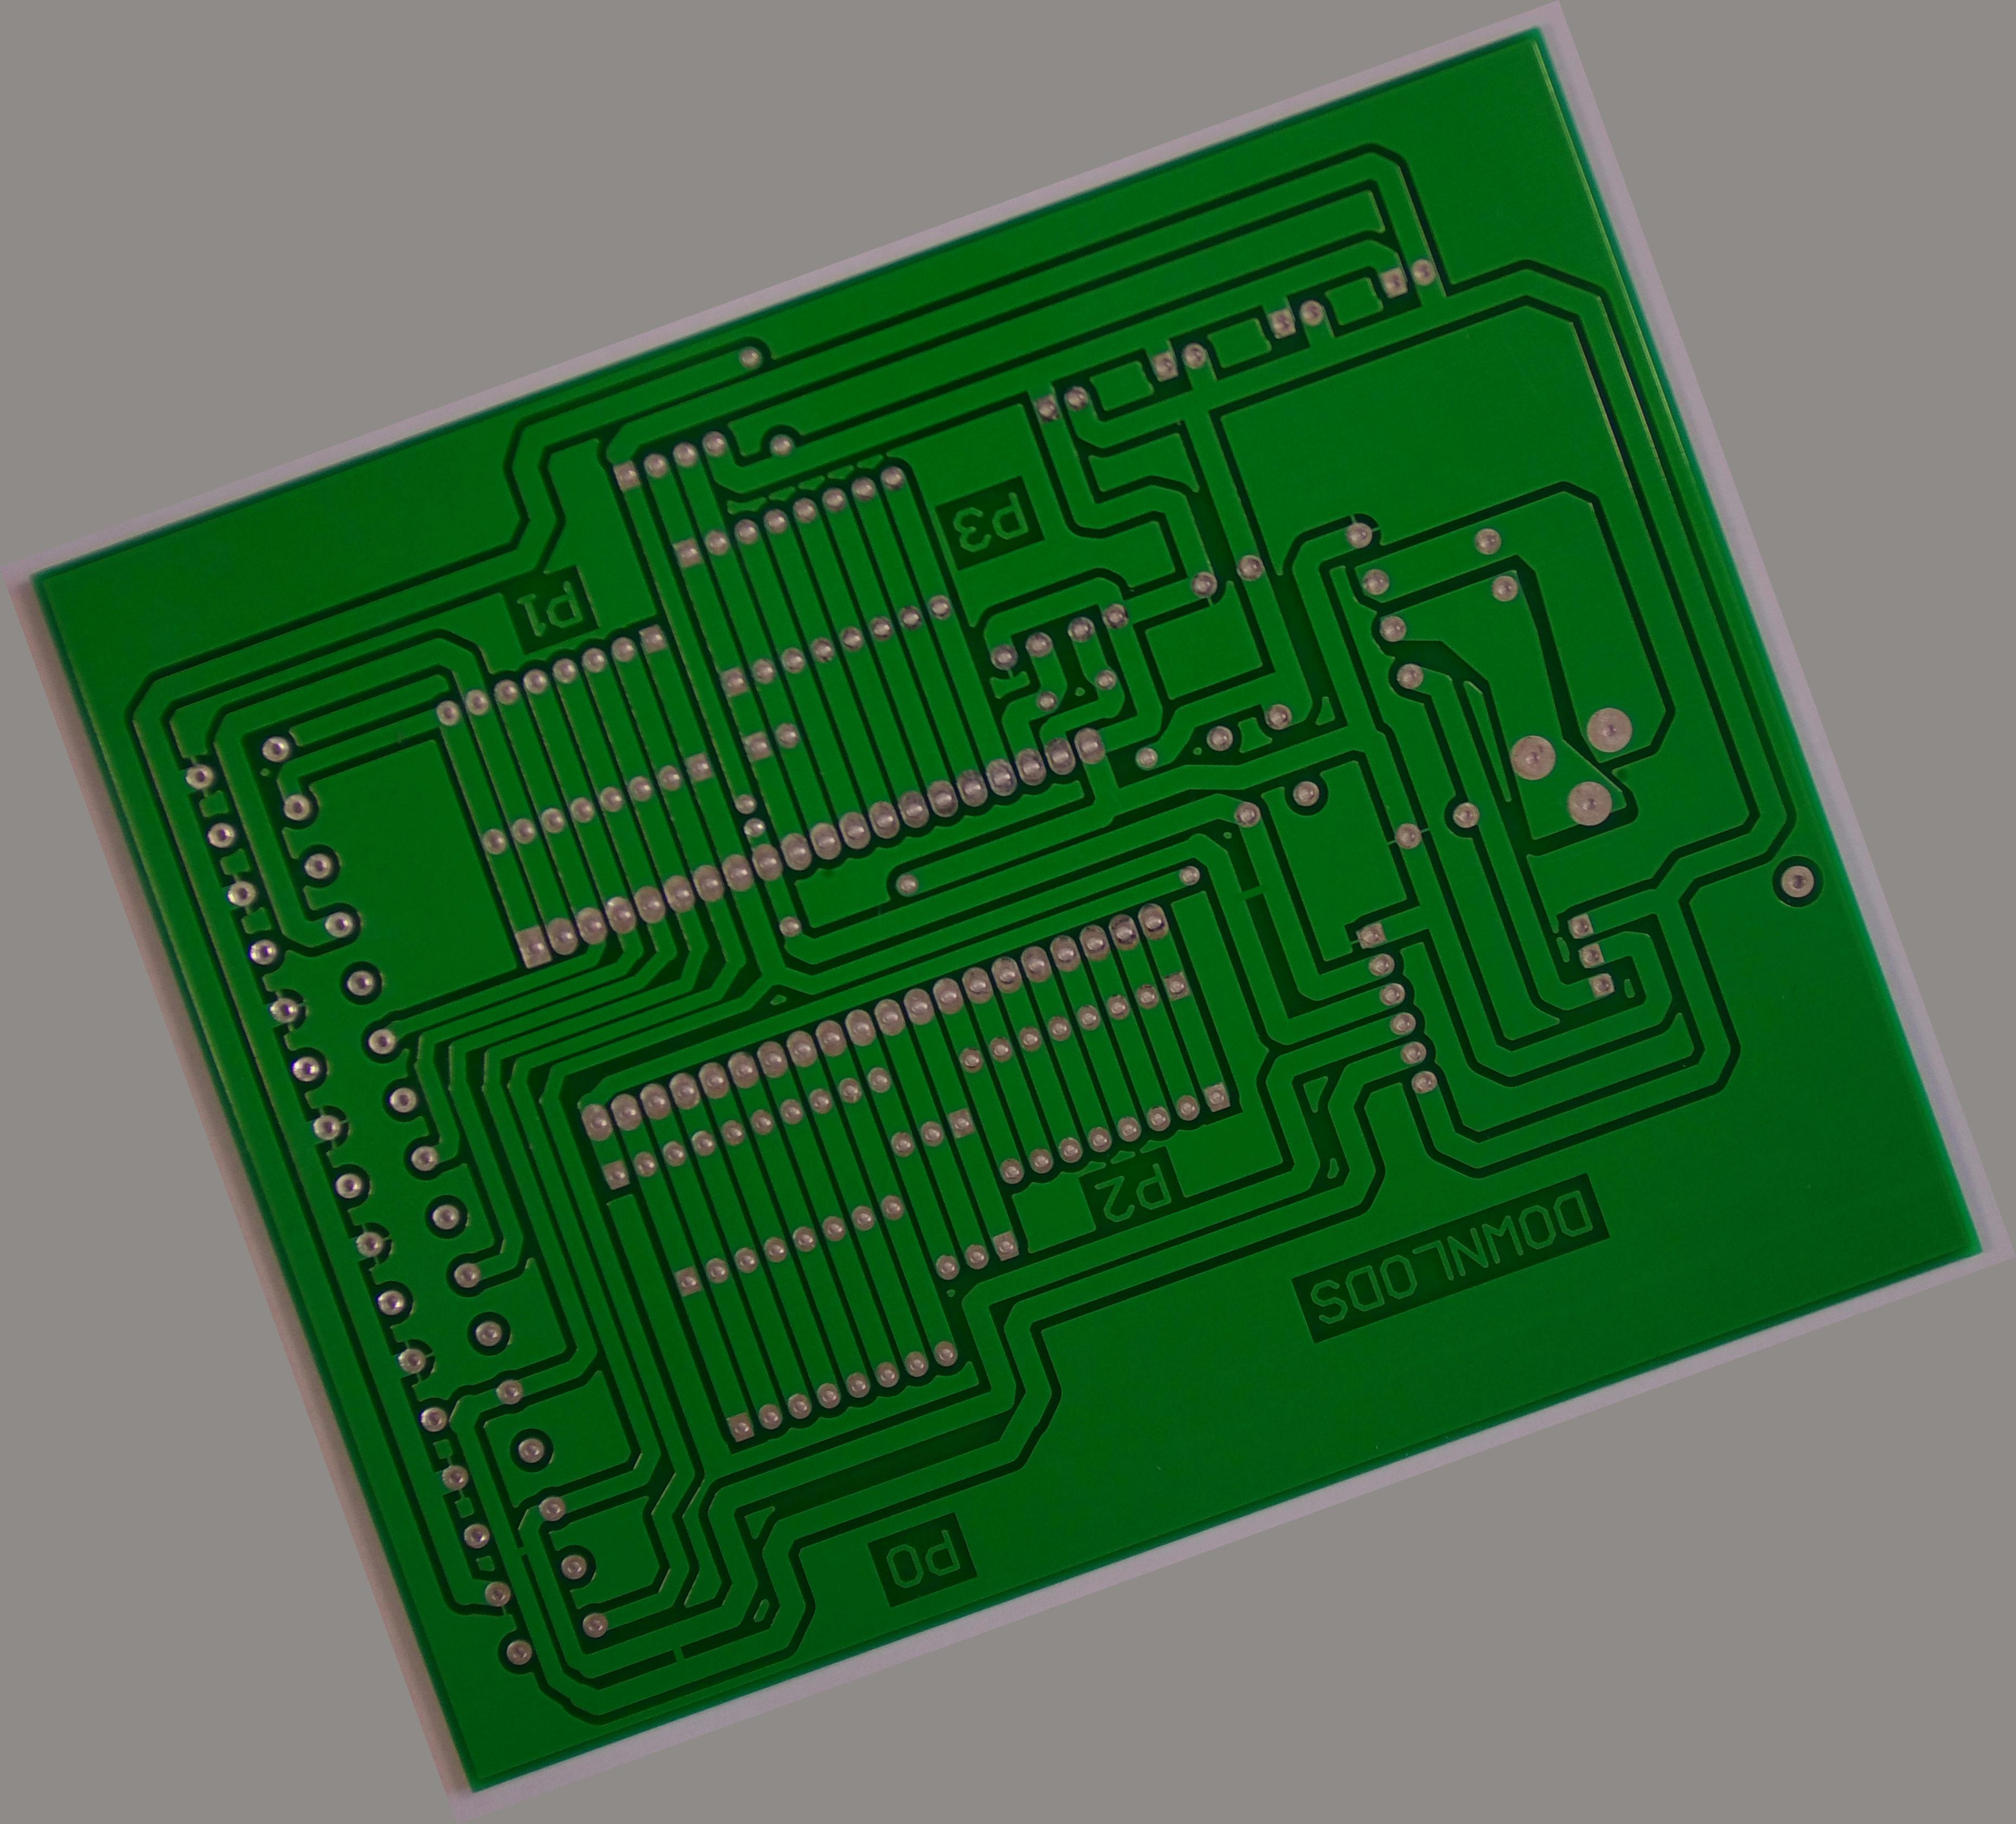short: (1210, 851, 1298, 934), (641, 1603, 724, 1689), (486, 1510, 557, 1582)
